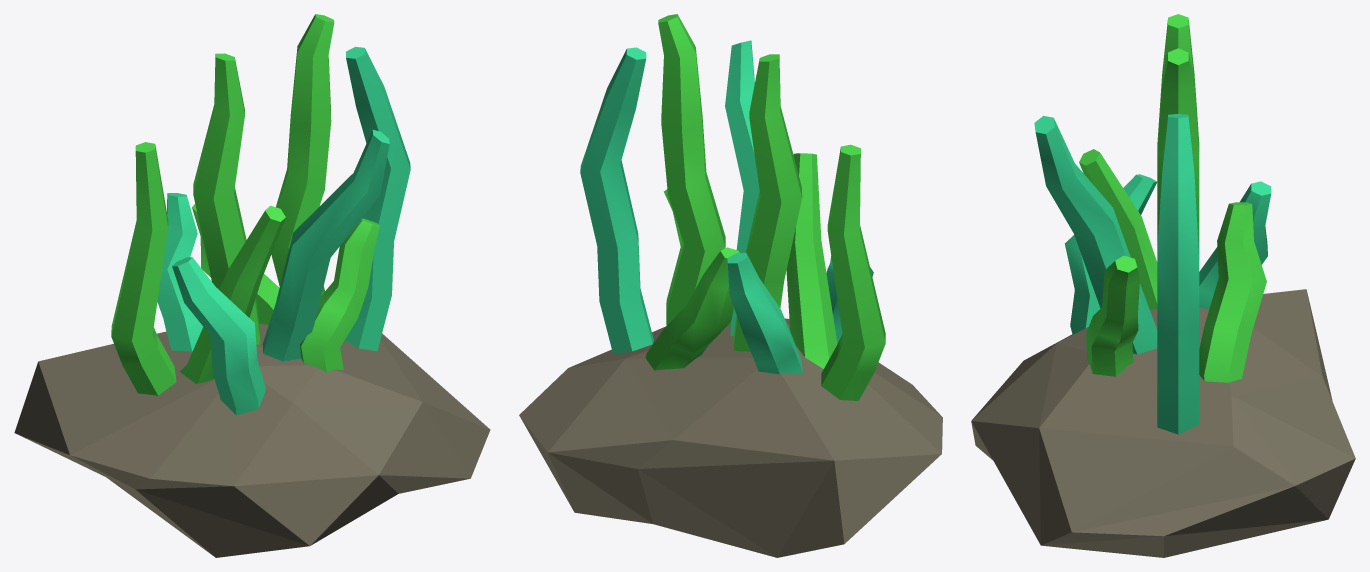
File: CoralGreenWeeds.FBX
3 renders of one model, left to right at view 1: azimuth 30°, elevation 25°; view 2: azimuth 150°, elevation 25°; view 3: azimuth 270°, elevation 25°, orthographic. The views are drawn at different scales.
Visible parts, largest first — view 1: CoralGreenWeeds; view 2: CoralGreenWeeds; view 3: CoralGreenWeeds.
Part boxes in pixels (<box>): CoralGreenWeeds: <box>14,14,490,557</box>; CoralGreenWeeds: <box>519,14,942,557</box>; CoralGreenWeeds: <box>971,14,1355,557</box>.
Size of the model in its own units: 36.06 by 42.87 by 30.21.
